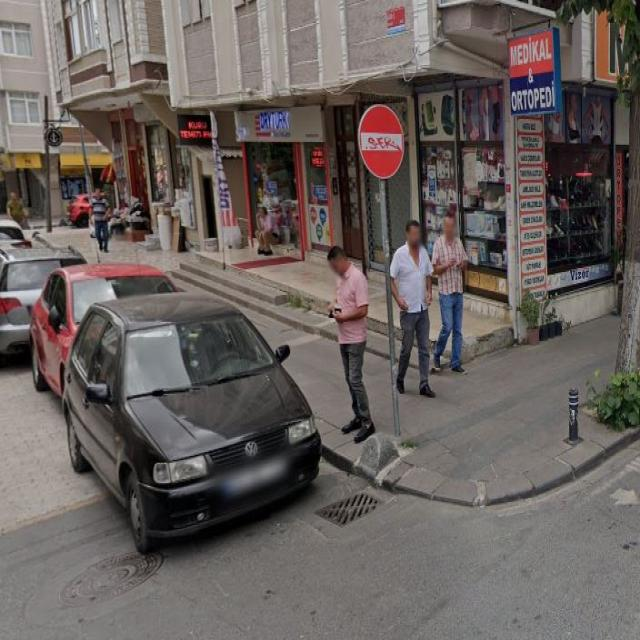girisyok: (359, 104, 404, 177)
